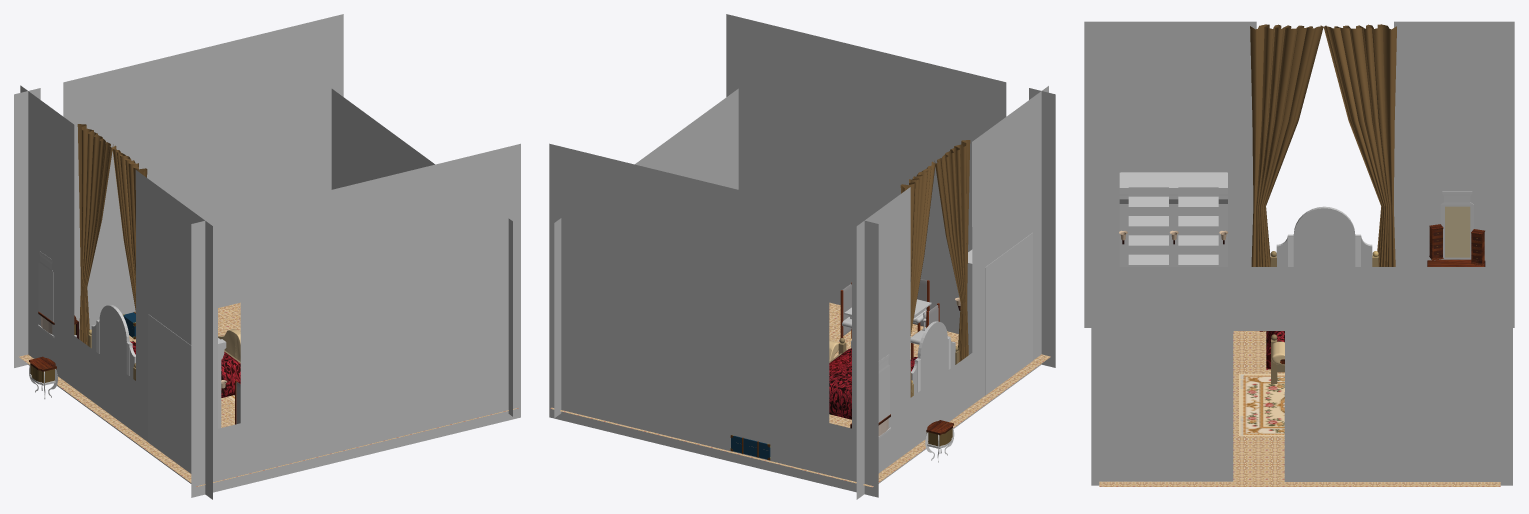
File: son_room.fbx
3 views of the same model, side by side, from view 1: azimuth 30°, elevation 25°; view 2: azimuth 150°, elevation 25°; view 3: azimuth 270°, elevation 25° (orthographic). The views are drawn at different scales.
Parts seen in each view (by area): view 1: WALLPP, Plane.102, Cube.932, Plane.016, Circle.000, Cube.008, Plane.012; view 2: WALLPP, Cube.932, Plane.102, Plane.016, Circle.000, Plane.012, Cube.008; view 3: WALLPP, Plane.102, Cube.932, Plane.016, Circle.000, Plane, Cube.007, Cube.008.
Part boxes in pixels (box(x1,y1,x2,y2)): WALLPP: box(14, 14, 520, 499); Plane.102: box(77, 124, 147, 380); Cube.932: box(148, 314, 226, 473); Plane.016: box(19, 302, 518, 486); Circle.000: box(91, 304, 135, 378); Cube.008: box(38, 251, 53, 321); Plane.012: box(130, 341, 240, 397); WALLPP: box(549, 14, 1055, 499); Cube.932: box(967, 232, 1032, 395); Plane.102: box(900, 140, 970, 397); Plane.016: box(550, 302, 1050, 487); Circle.000: box(911, 321, 955, 394); Plane.012: box(829, 348, 917, 419); Cube.008: box(878, 354, 889, 422); WALLPP: box(1084, 21, 1514, 485); Plane.102: box(1250, 24, 1396, 266); Cube.932: box(1119, 172, 1227, 266); Plane.016: box(1099, 331, 1500, 486); Circle.000: box(1276, 206, 1372, 266); Plane: box(1239, 374, 1284, 435); Cube.007: box(1445, 206, 1470, 257); Cube.008: box(1440, 191, 1473, 259).
Size of the model in its own units: 532 by 394 by 500.
